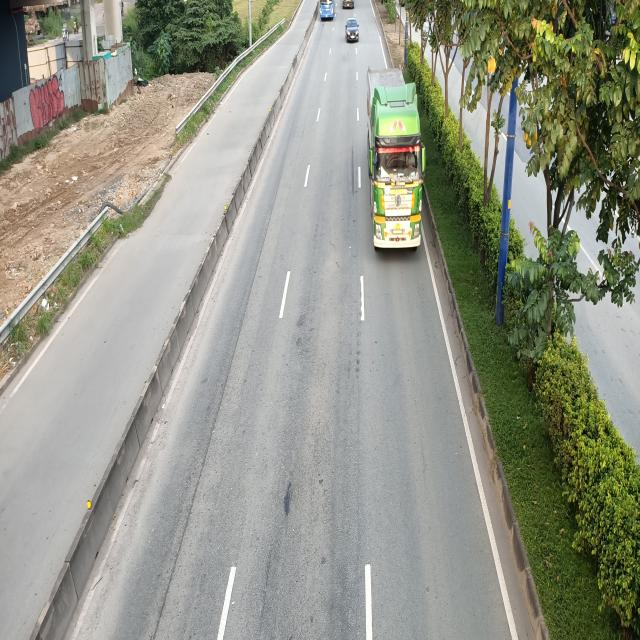car: (346, 19, 360, 43)
container: (368, 69, 429, 251)
